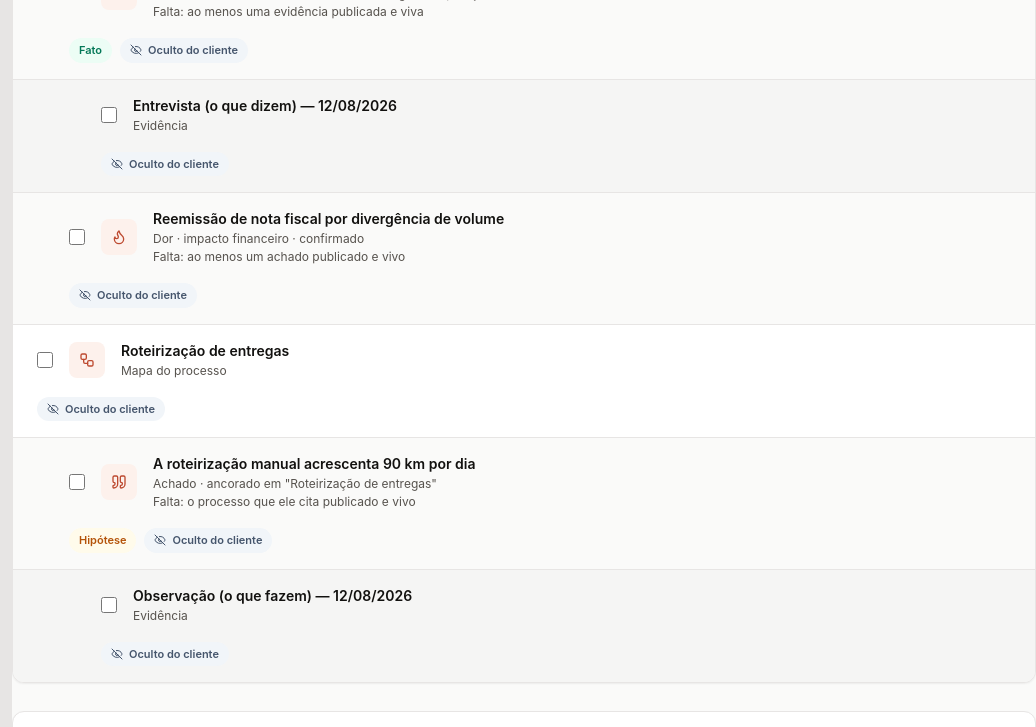
Test case: marcar o mapa cascateia para baixo, marcando a subárvore
(page scrolled)
What coordinates should you click on to do the following:
click the checkbox named "Selecionar para publicar: Roteirização de entregas"
I would click on:
 (45, 360)
Its box is [37,352,53,368].
(page scrolled)
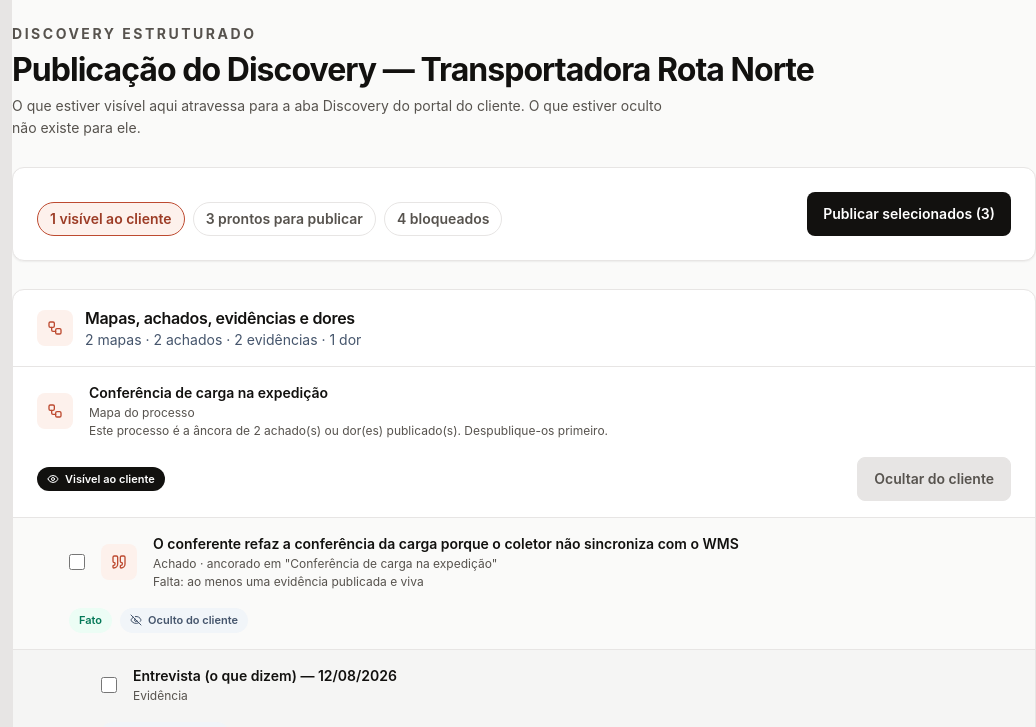
Expected: the button "Publicar selecionados (3)" is enabled, [807,192,1011,236]
